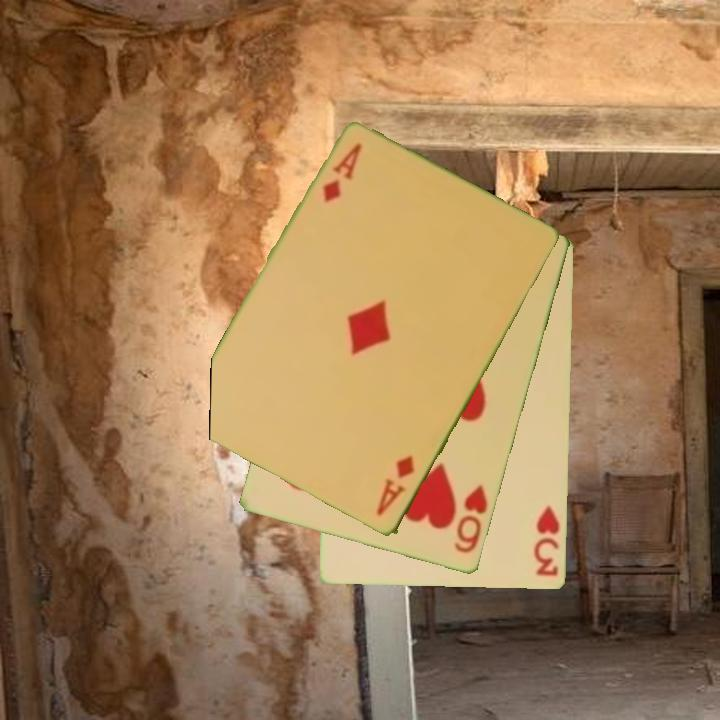3h: (531, 503, 563, 580)
6h: (450, 482, 491, 557)
Ad: (319, 140, 365, 206), (373, 453, 418, 520)
